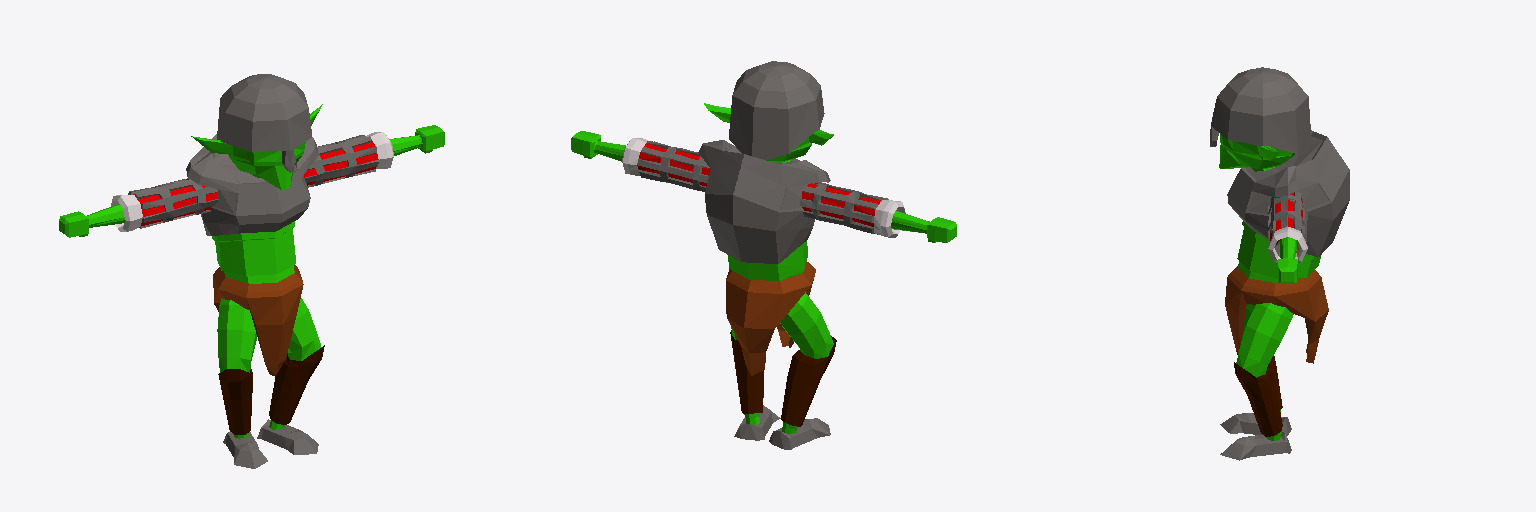
The picture shows the model from 3 angles: view 1: azimuth 30°, elevation 25°; view 2: azimuth 150°, elevation 25°; view 3: azimuth 270°, elevation 25°; orthographic projection.
Visible parts, largest first — view 1: Goblin_Cube; view 2: Goblin_Cube; view 3: Goblin_Cube.
Boxes of the visible parts, box(x1,y1,x2,y2) form: Goblin_Cube: box(59, 74, 444, 468); Goblin_Cube: box(571, 61, 956, 449); Goblin_Cube: box(1210, 67, 1349, 460).
Bounding box in the file's own units: 10.04 × 9.28 × 3.21.
Materials: 1 (1 with a texture image).